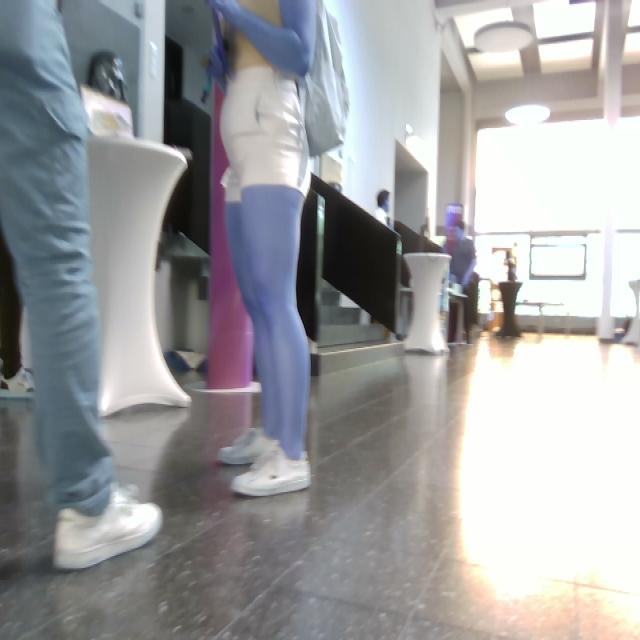light bulb: (474, 21, 534, 54), (505, 104, 551, 126)
person: (1, 1, 164, 572), (208, 1, 318, 498), (447, 221, 481, 337)
tiled floor: (2, 328, 639, 637)
